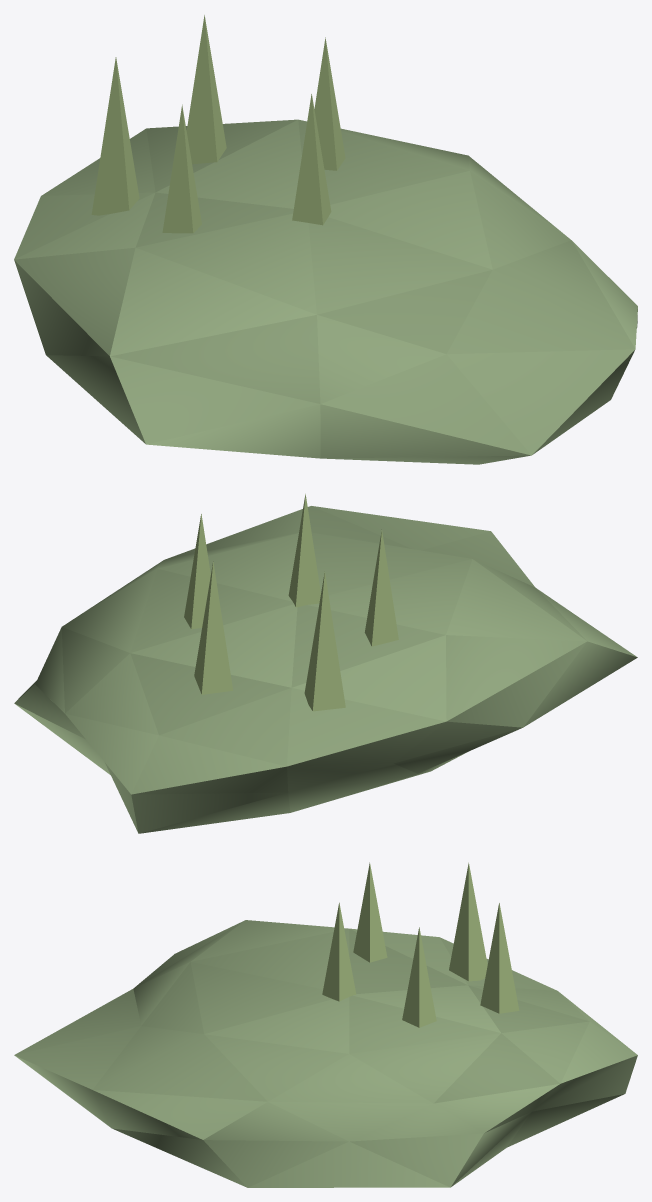
File: golem_moss.glb
The picture shows the model from 3 angles, top to bottom: view 1: azimuth 30°, elevation 25°; view 2: azimuth 150°, elevation 25°; view 3: azimuth 270°, elevation 25°; orthographic projection. The views are drawn at different scales.
Visible parts, largest first — view 1: golem_moss; view 2: golem_moss; view 3: golem_moss.
Boxes of the visible parts, bbox=[...] form: golem_moss: bbox=[14, 15, 637, 464]; golem_moss: bbox=[14, 494, 637, 833]; golem_moss: bbox=[14, 862, 637, 1187].
Bounding box in the file's own units: 0.3322 × 0.1694 × 0.445.
